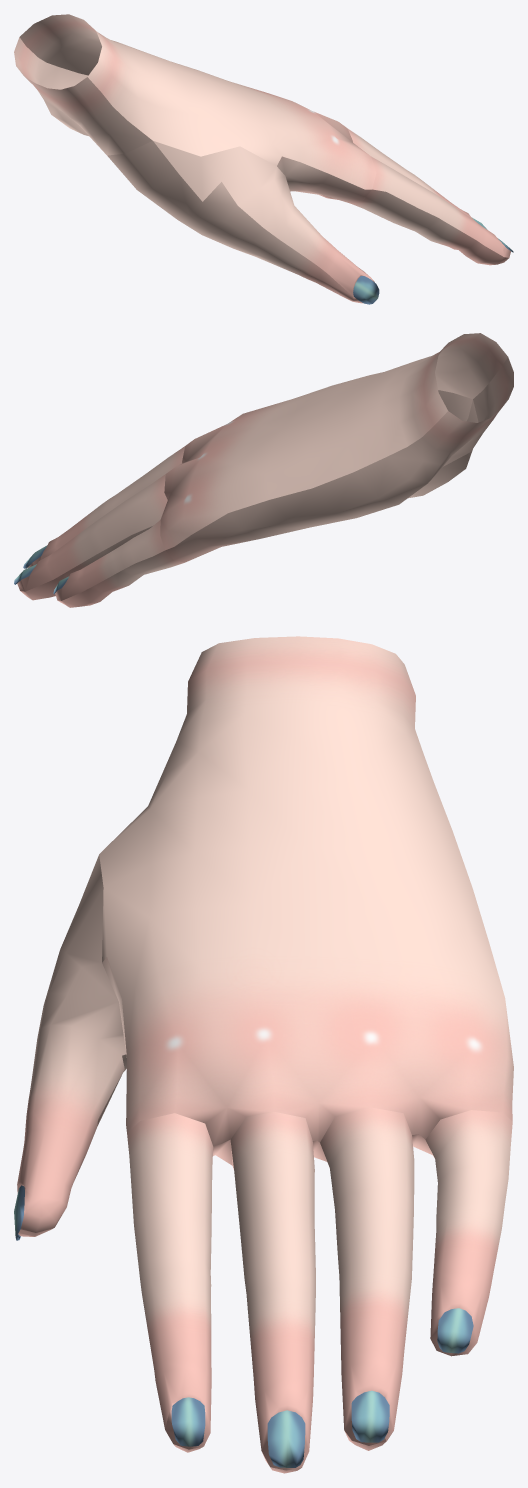
The model's file is mikuhand.fbx.
3 views of the same model, one above another, from view 1: azimuth 30°, elevation 25°; view 2: azimuth 150°, elevation 25°; view 3: azimuth 270°, elevation 25° (orthographic). The views are drawn at different scales.
Visible parts, largest first — view 1: Body; view 2: Body; view 3: Body.
Part boxes in pixels (x1,y1,x2,y2): Body: (14,14,513,304); Body: (14,333,513,607); Body: (14,636,513,1473).
Size of the model in its own units: 189 by 127 by 110.
